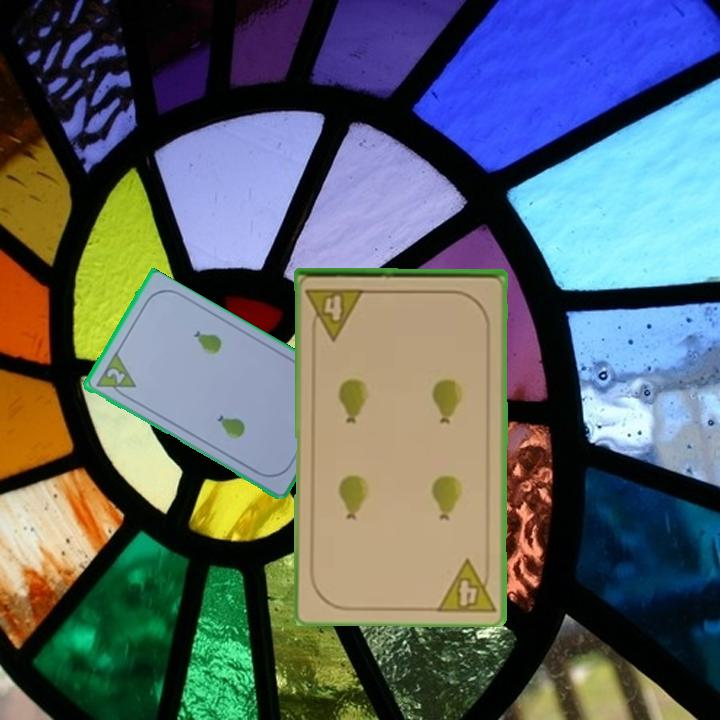2p: (92, 350, 138, 402)
4p: (433, 553, 498, 614), (303, 285, 368, 342)
